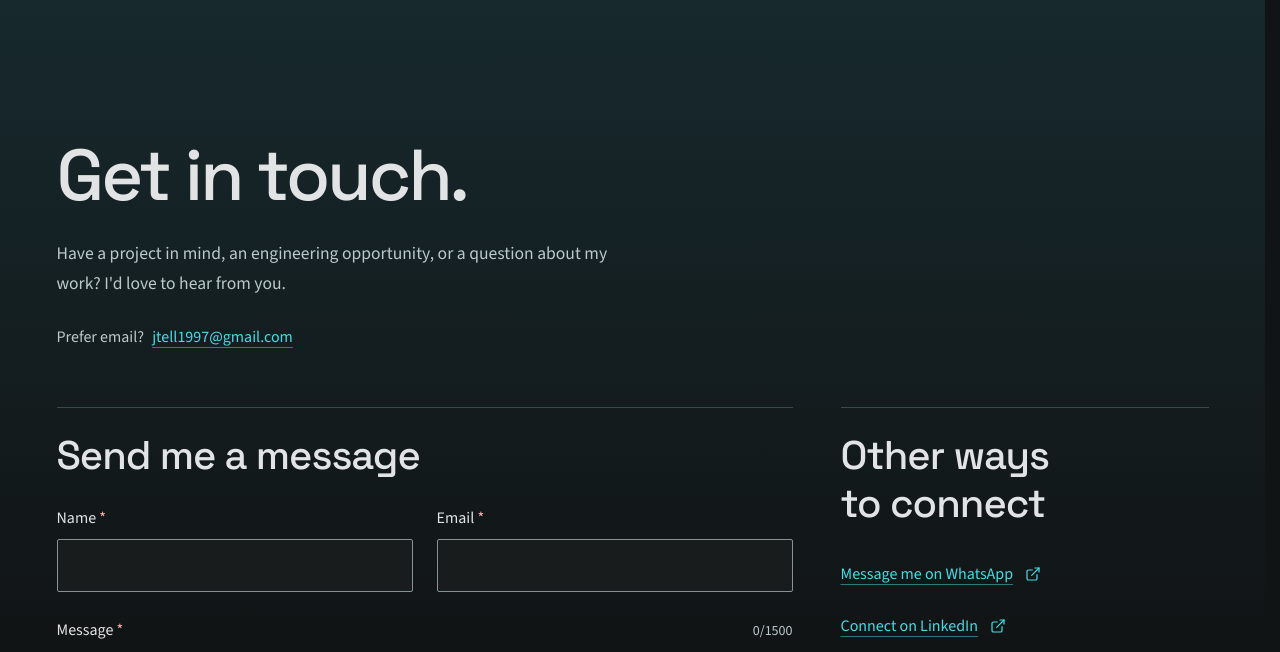
Test: Contact enquiry › shows validation after blur and clears it as the field is corrected
In the field with id "email": coordinates (614, 566) [436,539,792,592], type "not-an-email"
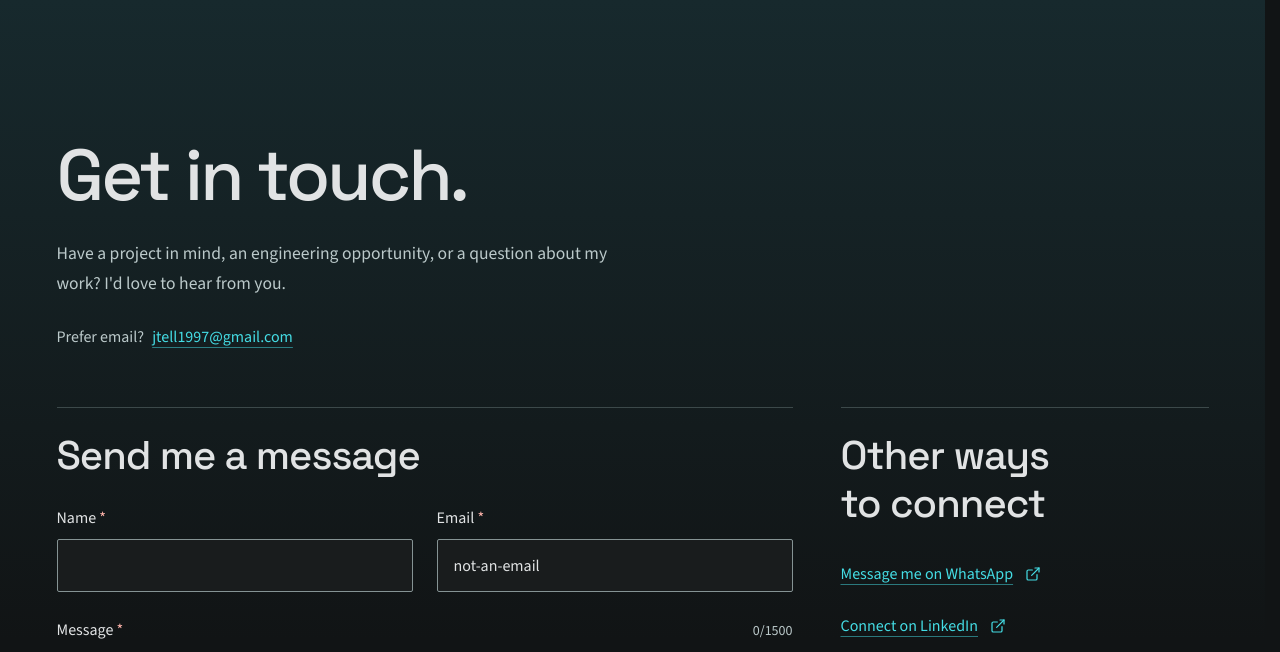
Leave the field with id "email", box [436,539,792,592]
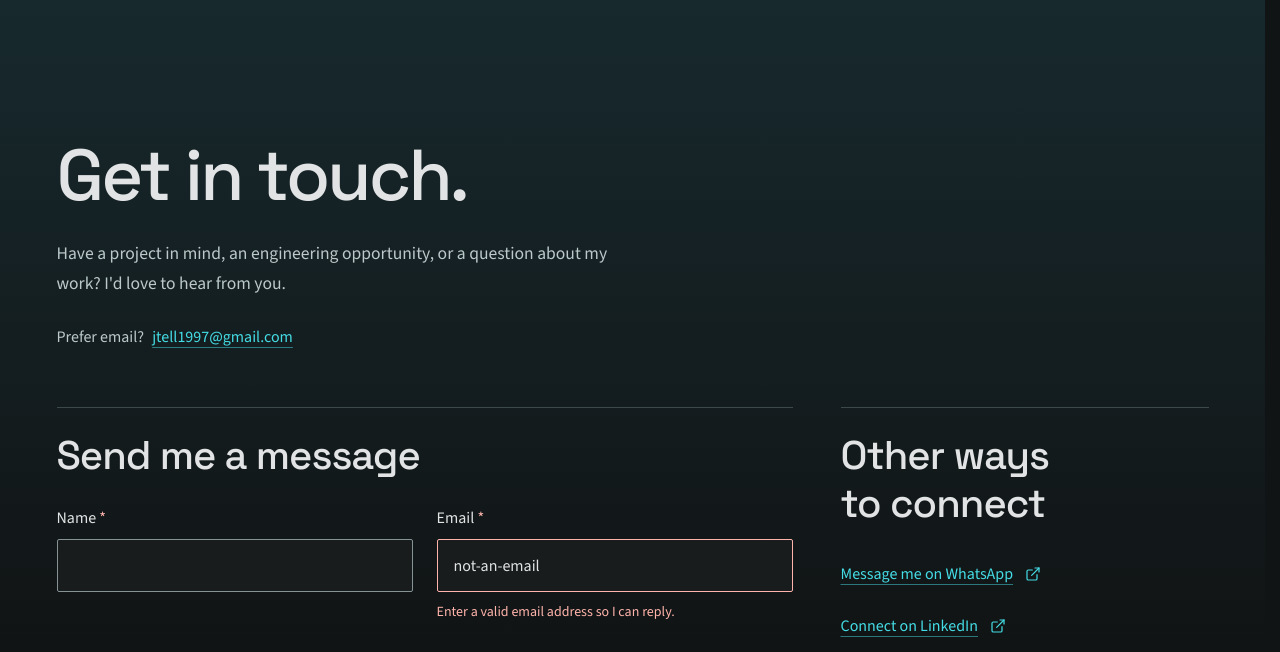
Replace the text in the field with id "email" with "josh@example.com": coordinates (614, 566) [436,539,792,592]
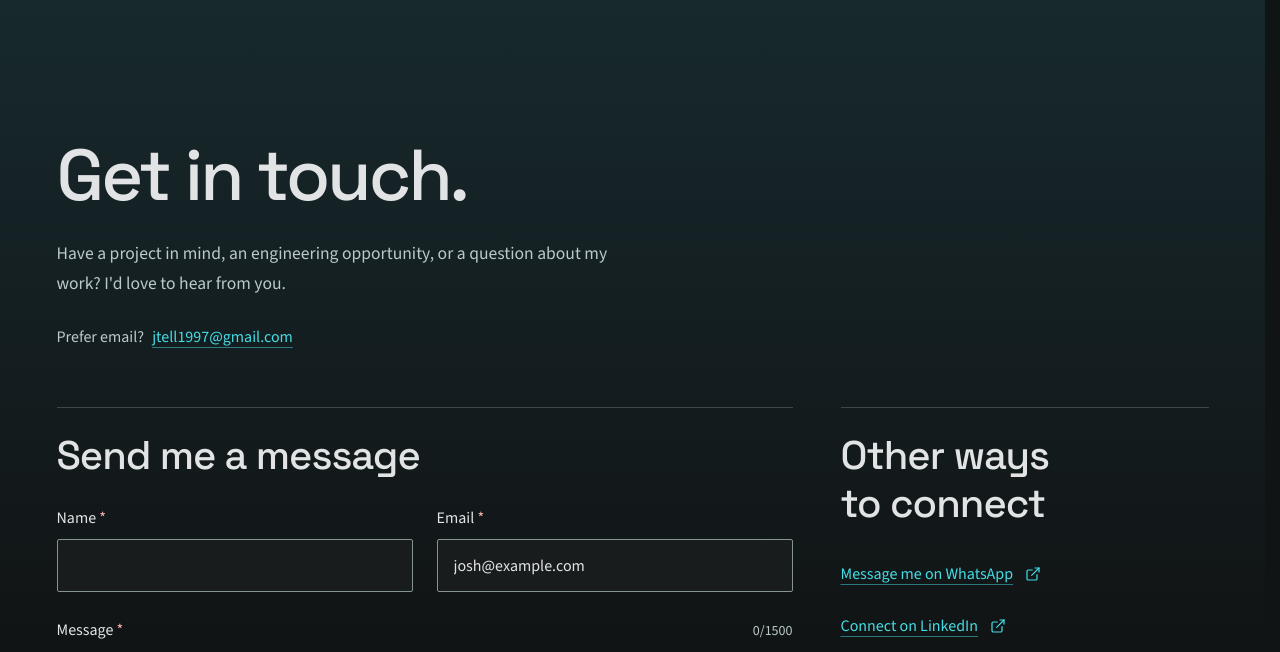
expect the text with id "email-error" is gone: met
